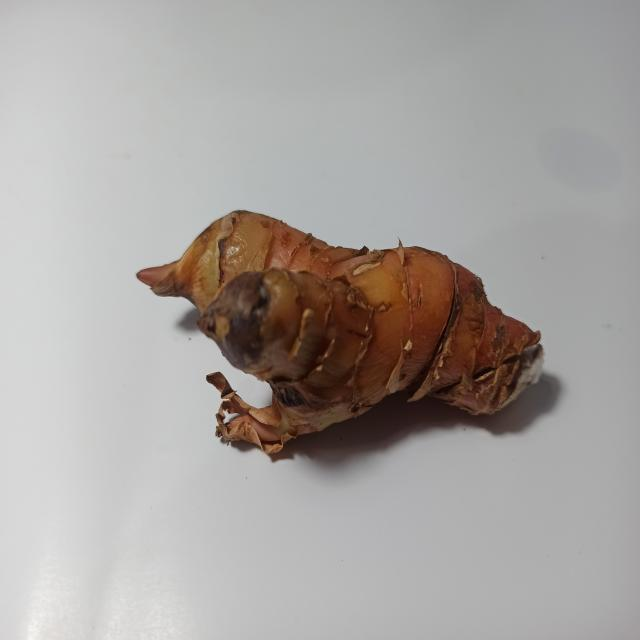ginger: (163, 201, 534, 437)
